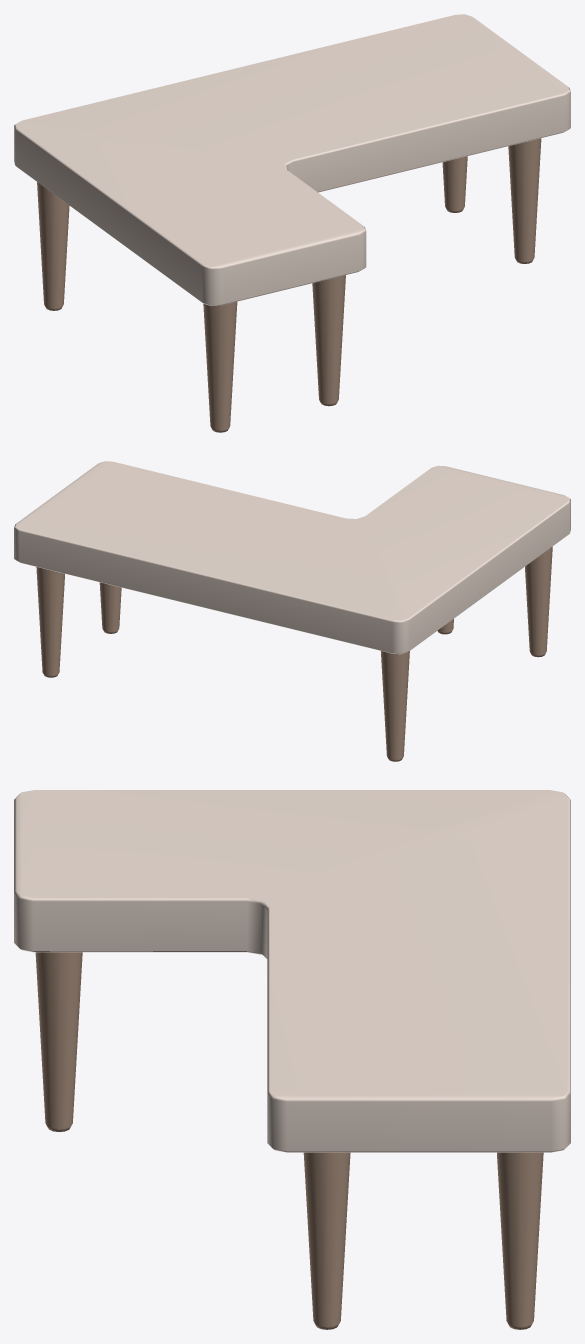
Rendered from Table_1.glb.
The picture shows the model from 3 angles, top to bottom: view 1: azimuth 30°, elevation 25°; view 2: azimuth 150°, elevation 25°; view 3: azimuth 270°, elevation 25°; orthographic projection. The views are drawn at different scales.
Visible parts, largest first — view 1: Table_1; view 2: Table_1; view 3: Table_1.
Part boxes in pixels (x1,y1,x2,y2): Table_1: [14, 14, 570, 432]; Table_1: [14, 461, 570, 761]; Table_1: [14, 790, 570, 1329].
Bounding box in the file's own units: 2.52 × 0.9412 × 1.92.
1 material, 1 textured.
